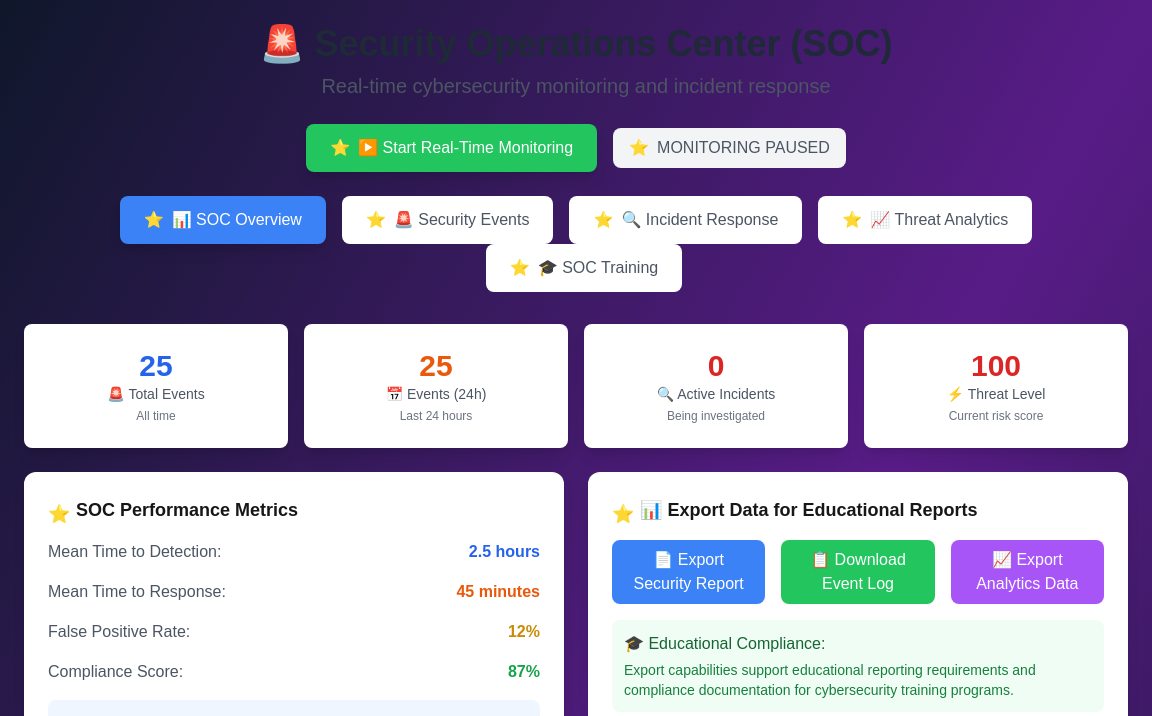
Test case: SecurityMonitoringDashboard - Strategic Coverage Enhancement › Dashboard Initialization and Basic Functionality › should handle monitoring toggle state changes
// Start monitoring
Click the button "⭐▶️ Start Real-Time Monitoring" at [452, 148], box [306, 124, 597, 172]
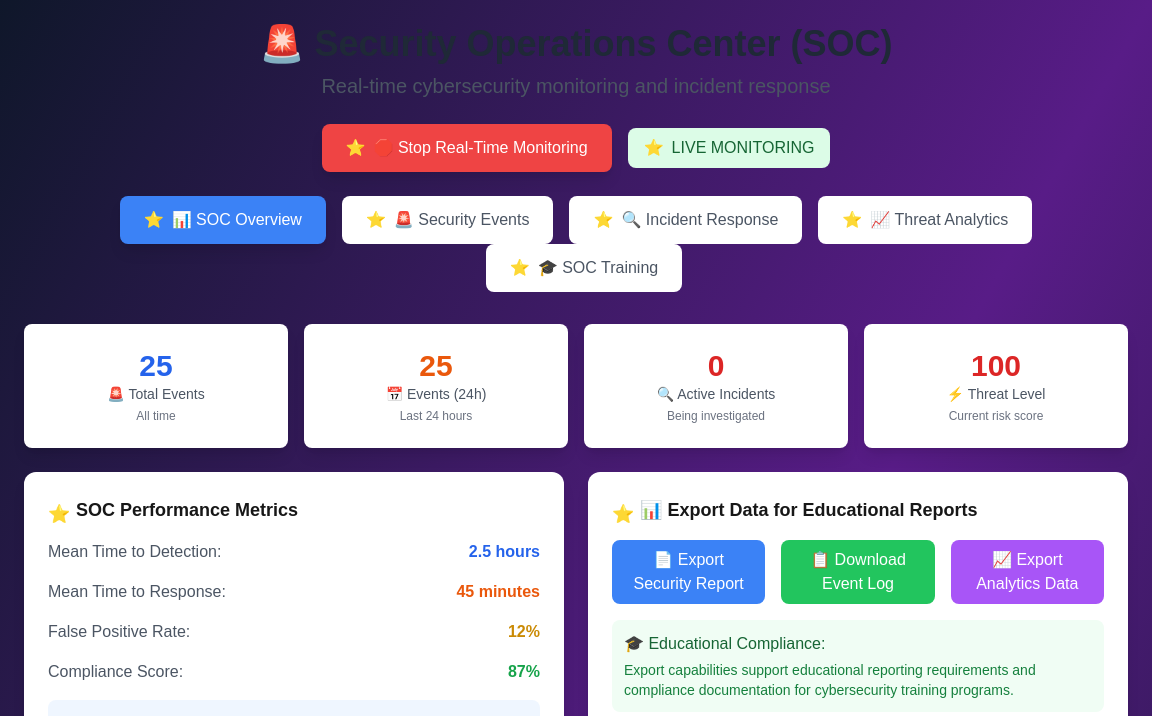
Check: the button "⭐🛑 Stop Real-Time Monitoring" is shown
// Stop monitoring
Click the button "⭐🛑 Stop Real-Time Monitoring" at [467, 148], box [322, 124, 612, 172]
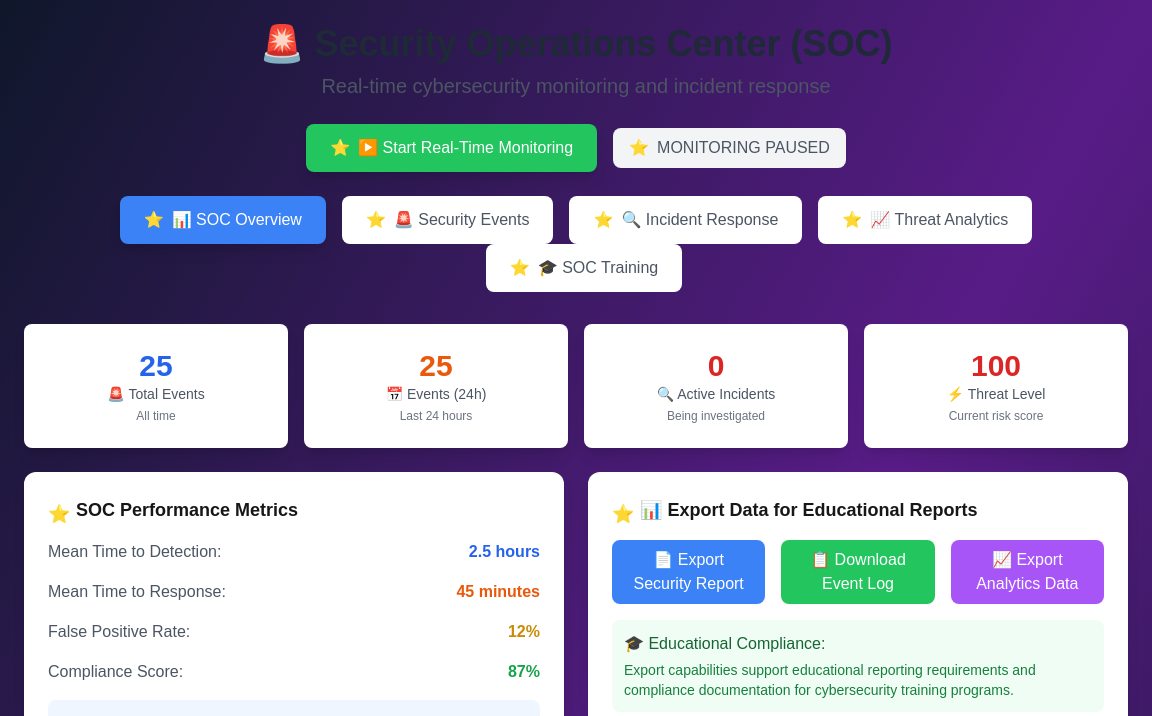
Check: the button "⭐▶️ Start Real-Time Monitoring" is shown, box [306, 124, 597, 172]
